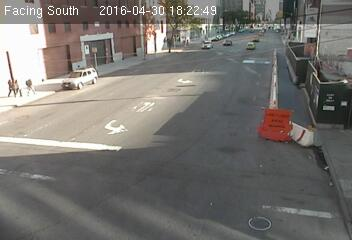neg: (251, 57, 273, 87), (219, 83, 238, 109), (161, 102, 180, 127), (99, 128, 118, 153), (174, 31, 189, 51)
pos: (9, 76, 24, 96), (21, 76, 35, 94), (2, 77, 15, 94)
